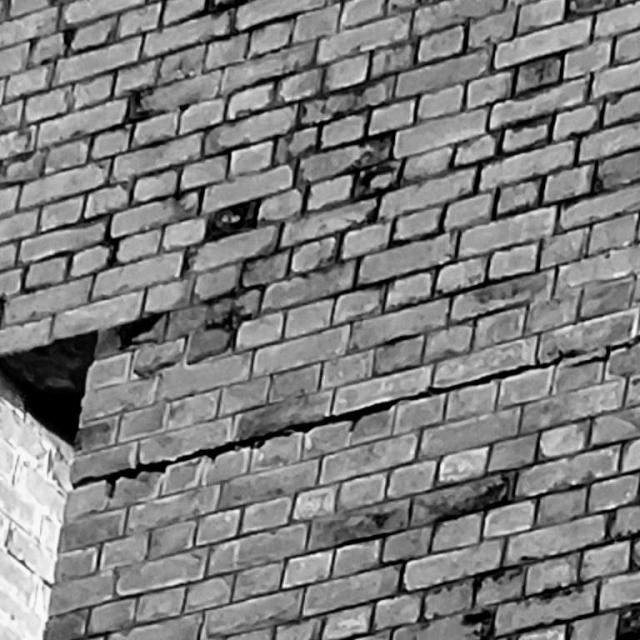crack: (70, 336, 639, 499), (6, 548, 52, 586)
